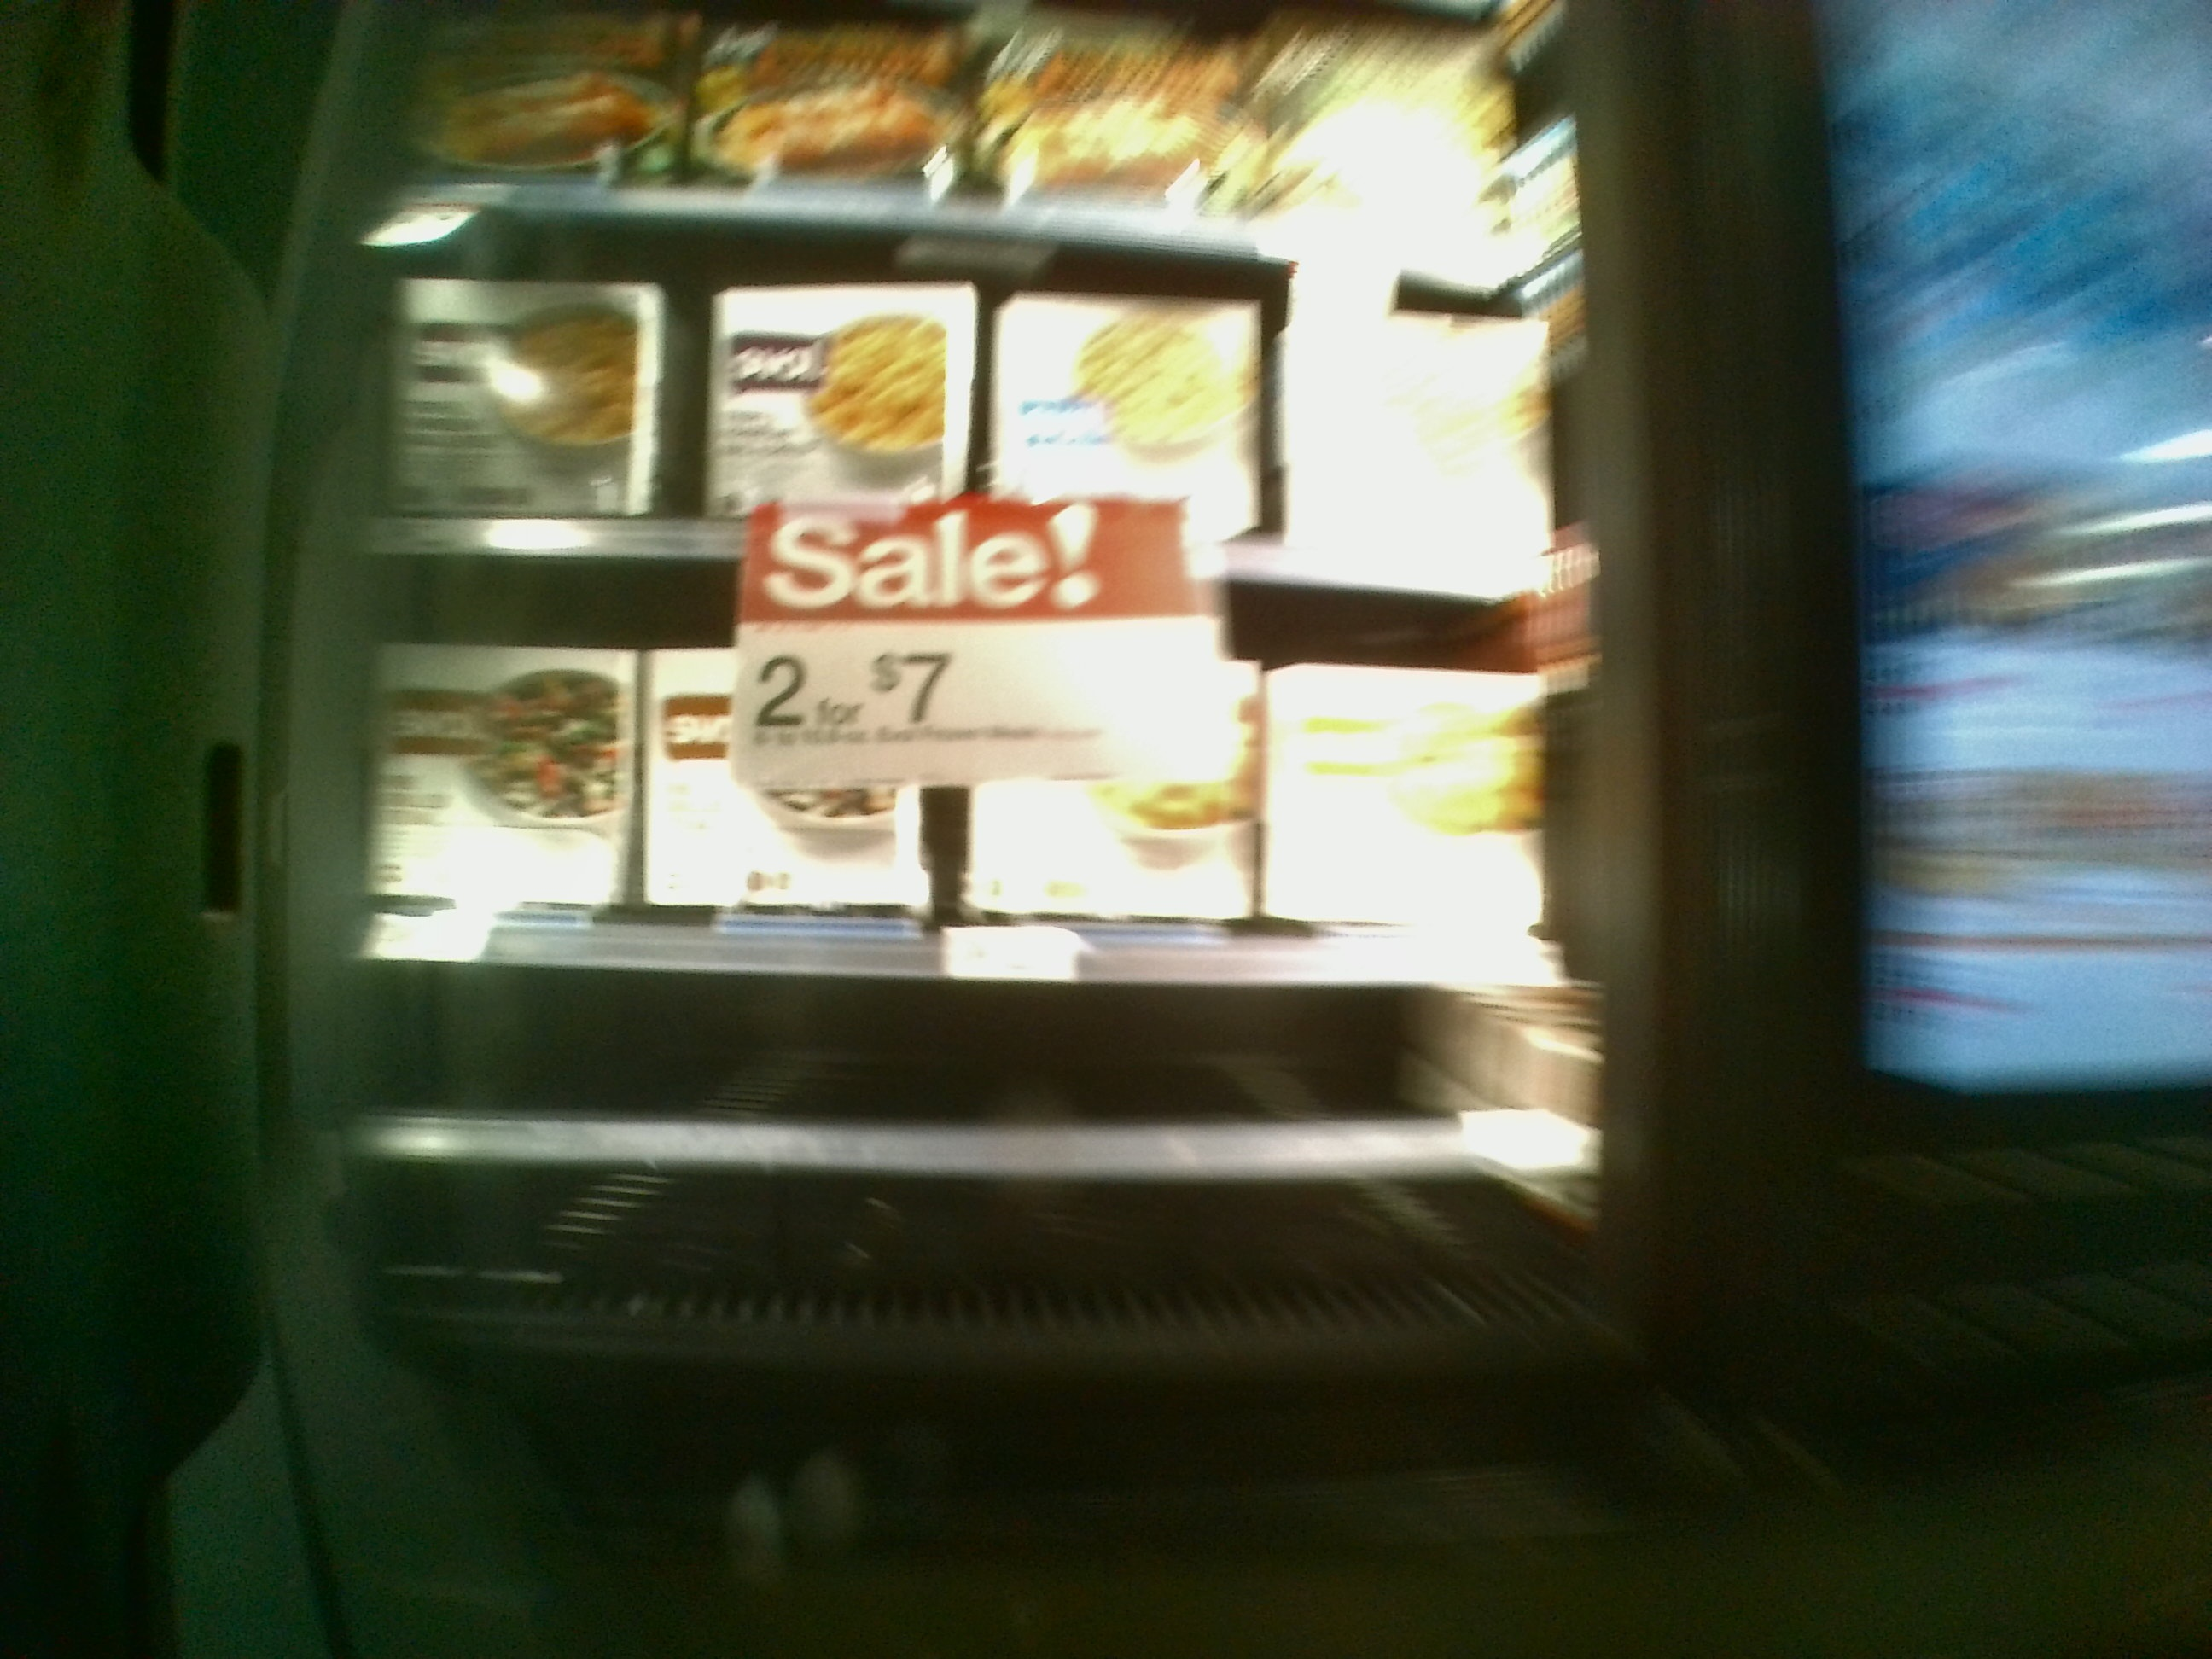shelf: (362, 580, 1602, 981), (369, 986, 1616, 1359), (371, 256, 1590, 584)
